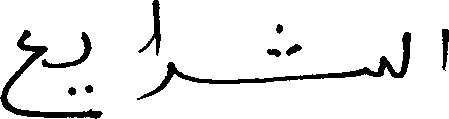ا: (144, 0, 161, 60), (434, 26, 447, 70)
ر: (135, 60, 181, 103)
ش: (258, 24, 386, 84)
ع: (0, 27, 53, 117)
ل: (390, 22, 412, 83)
ي: (64, 30, 110, 99)
